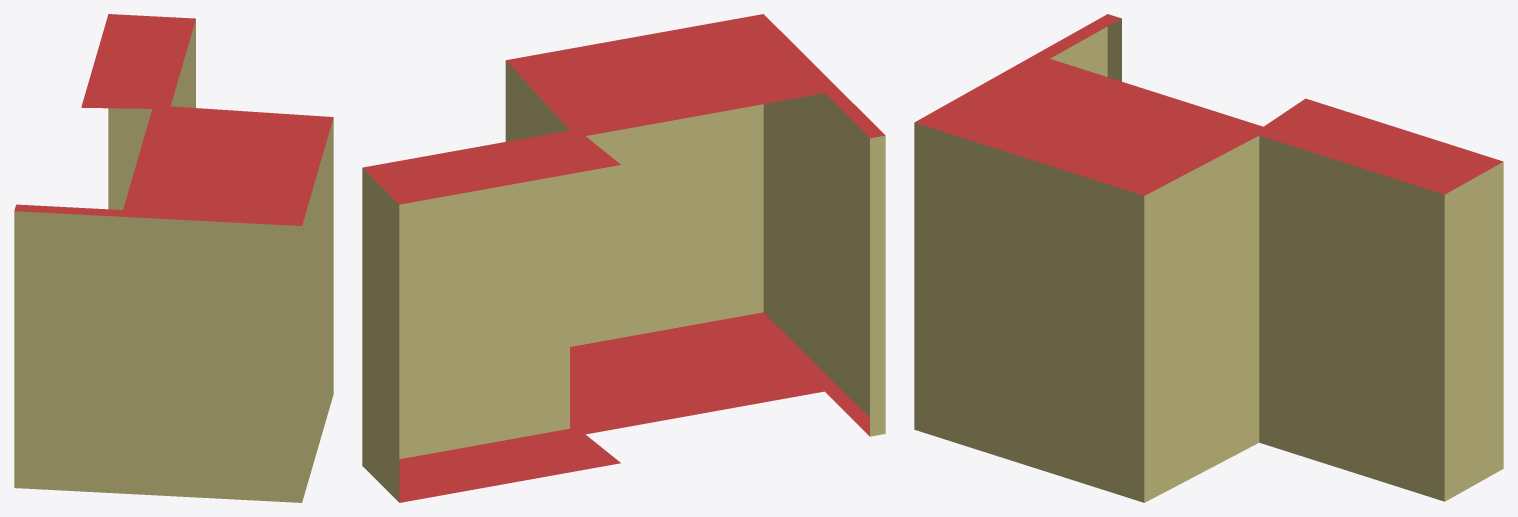
3 views of the same model, side by side, from view 1: azimuth 30°, elevation 25°; view 2: azimuth 150°, elevation 25°; view 3: azimuth 270°, elevation 25° (orthographic). The views are drawn at different scales.
Parts seen in each view (by area): view 1: group_4, group_3; view 2: group_4, group_3, group_5; view 3: group_4, group_3.
Boxes of the visible parts, bbox=[...] form: group_4: bbox=[14, 20, 333, 502]; group_3: bbox=[14, 14, 333, 225]; group_4: bbox=[362, 60, 885, 502]; group_3: bbox=[362, 14, 885, 204]; group_5: bbox=[399, 312, 869, 502]; group_4: bbox=[914, 18, 1503, 502]; group_3: bbox=[914, 14, 1503, 195].
Size of the model in its own units: 10.59 by 14.5 by 8.33.
